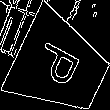P_SE: (32, 39, 89, 94)
